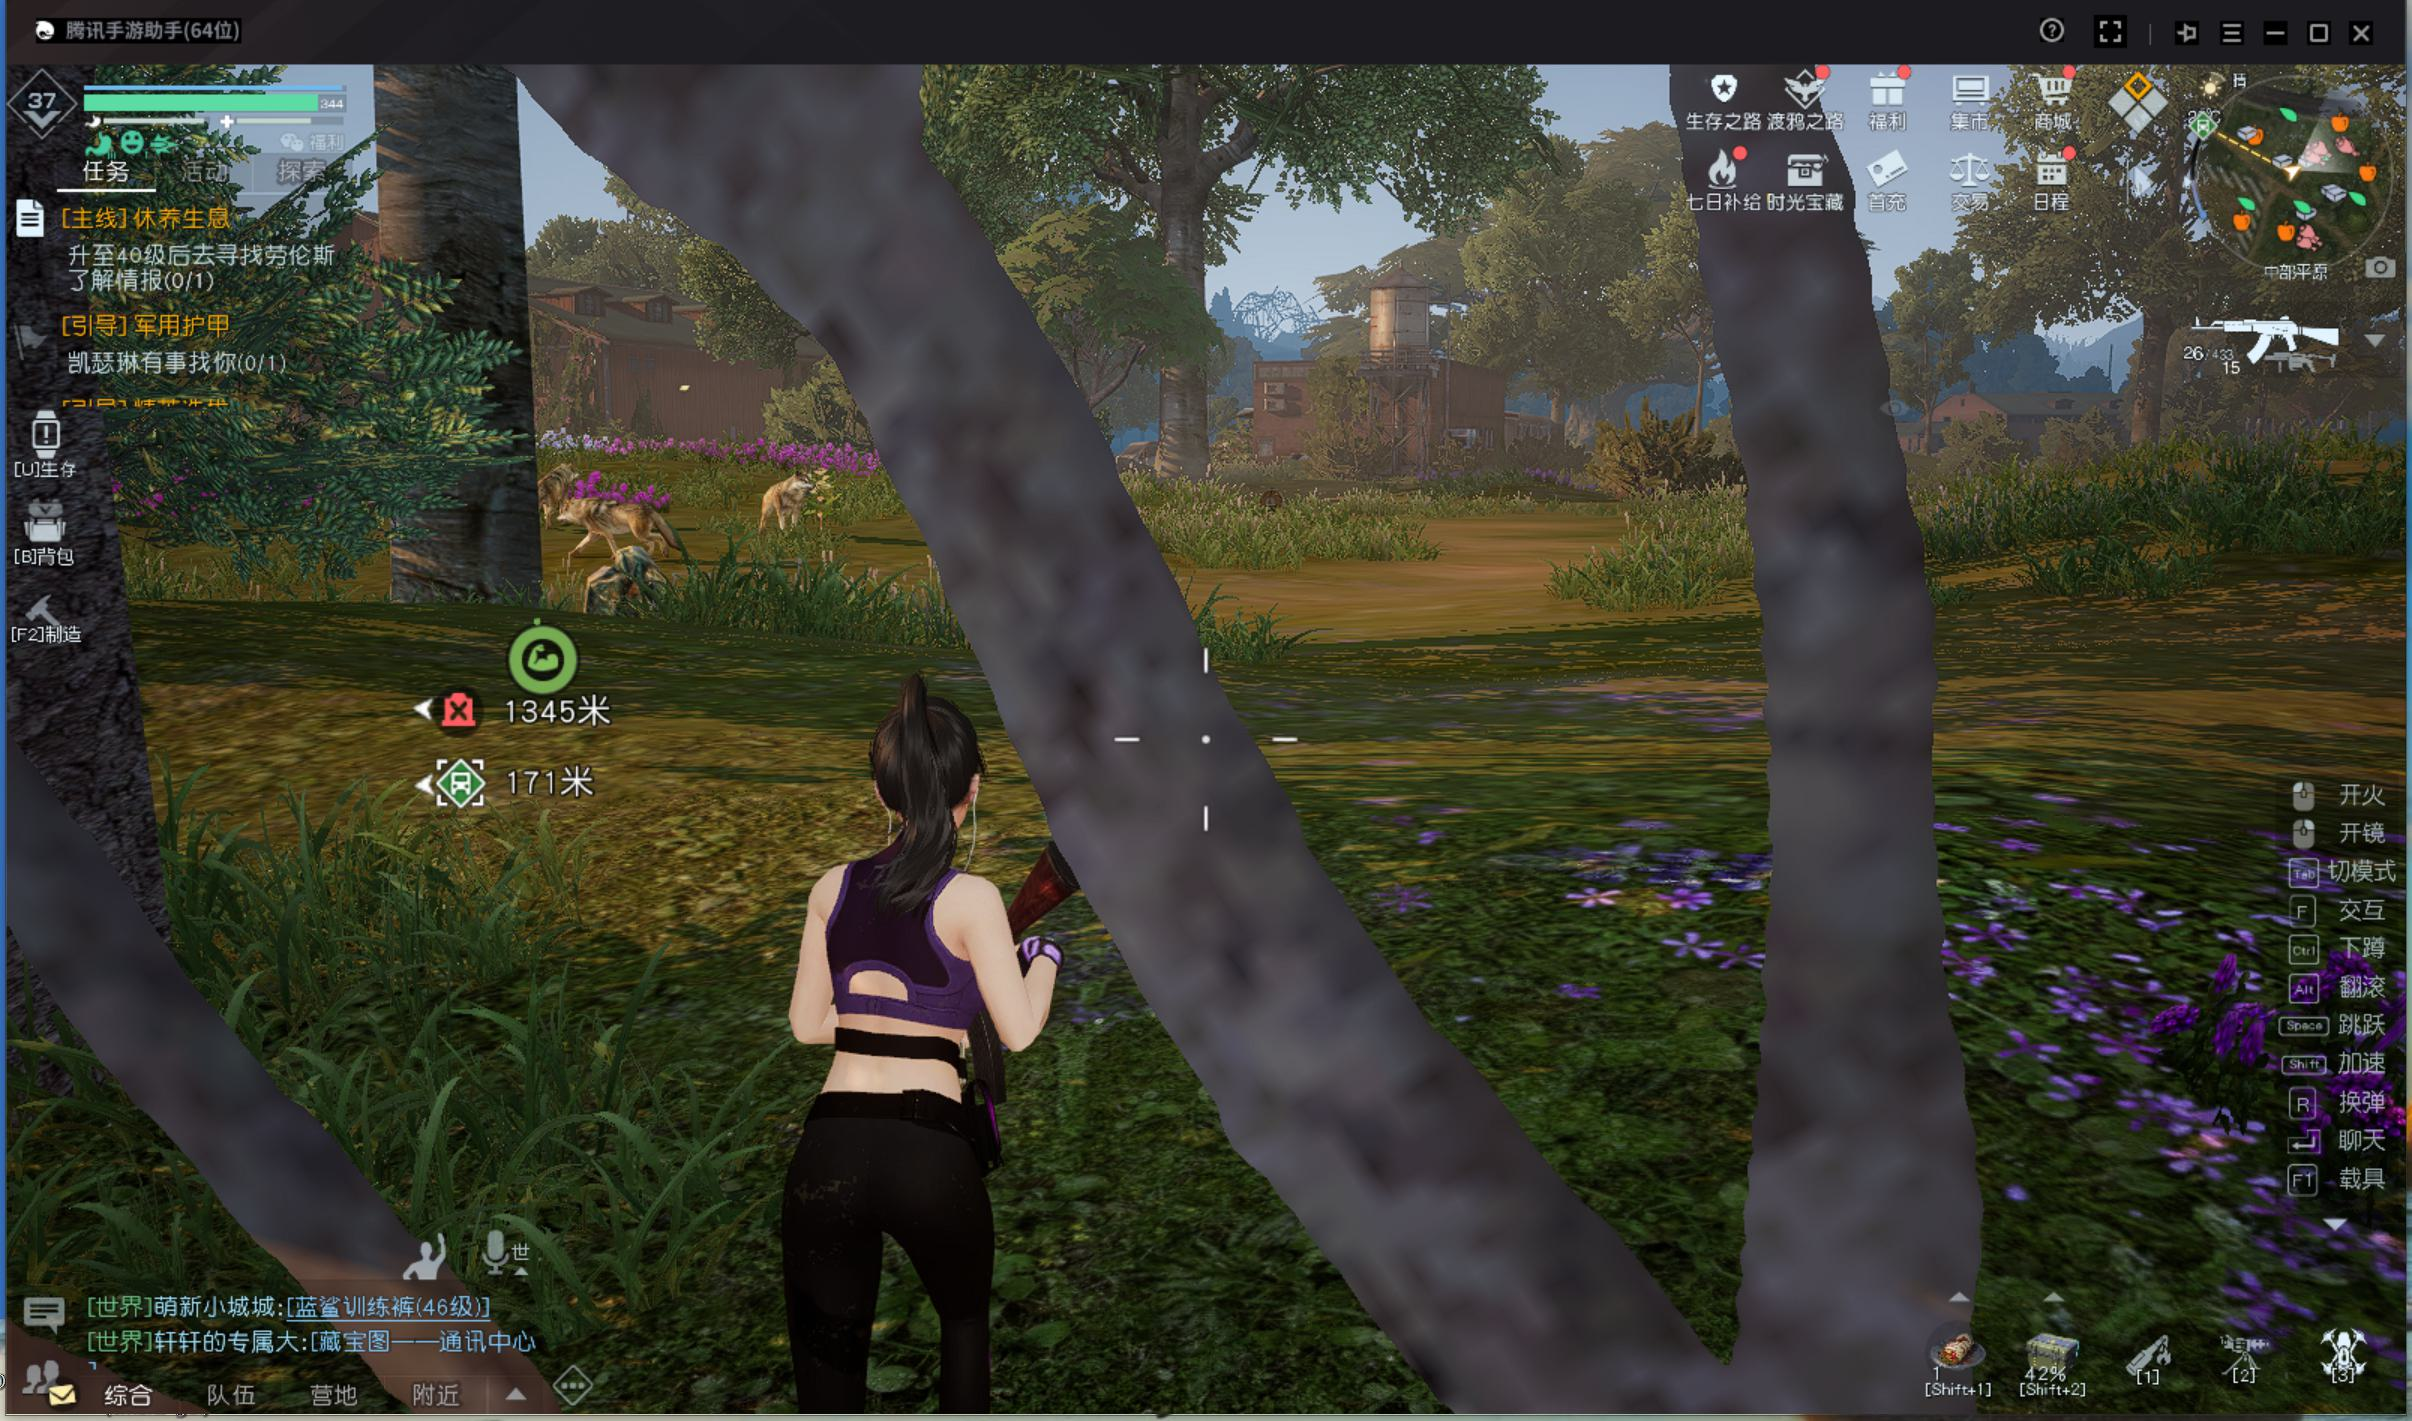stone: (563, 541, 683, 638)
tree: (364, 96, 562, 606), (1137, 205, 1225, 487)
